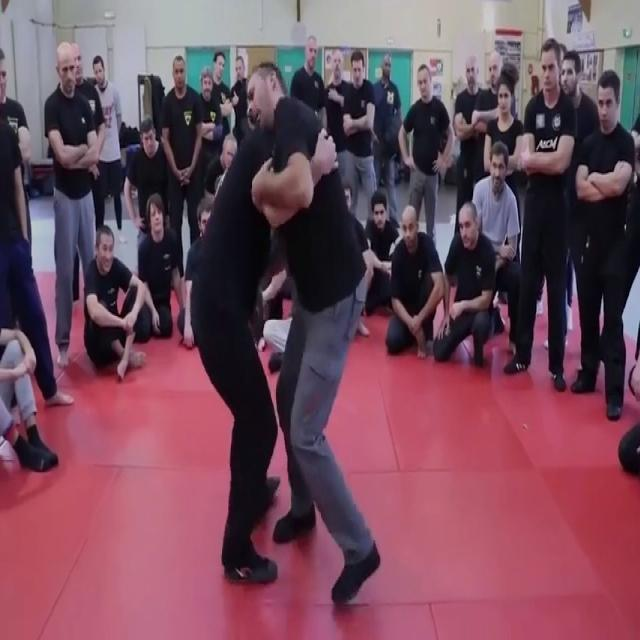fight: (171, 55, 397, 623)
non-fight: (564, 60, 640, 425), (501, 32, 566, 392), (41, 38, 102, 373), (73, 215, 160, 382), (431, 197, 499, 372)
